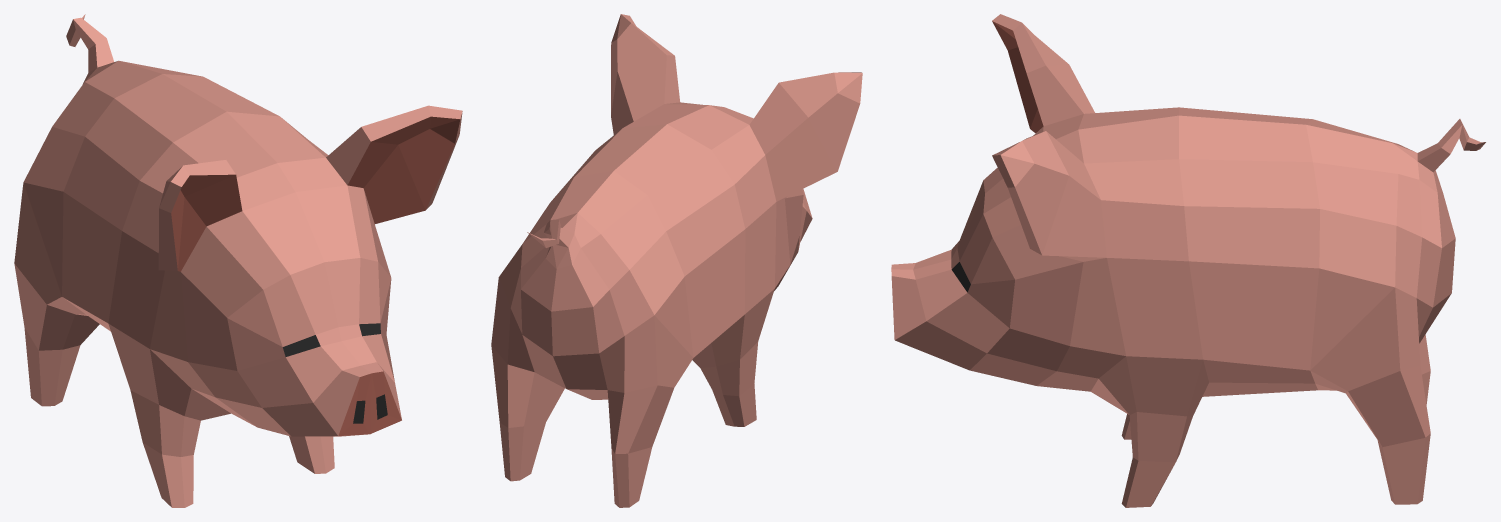
The model's file is pig.obj.
3 renders of one model, left to right at view 1: azimuth 30°, elevation 25°; view 2: azimuth 150°, elevation 25°; view 3: azimuth 270°, elevation 25°, orthographic. The views are drawn at different scales.
Visible parts, largest first — view 1: Pig:PM3D_ZSphere_1; view 2: Pig:PM3D_ZSphere_1; view 3: Pig:PM3D_ZSphere_1.
Boxes of the visible parts, x1,y1,x2,y2 form: Pig:PM3D_ZSphere_1: (14, 14, 462, 507); Pig:PM3D_ZSphere_1: (491, 14, 862, 507); Pig:PM3D_ZSphere_1: (891, 14, 1485, 507).
Size of the model in its own units: 1.85 by 2.3 by 3.2.
Materials: 1 (1 with a texture image).
